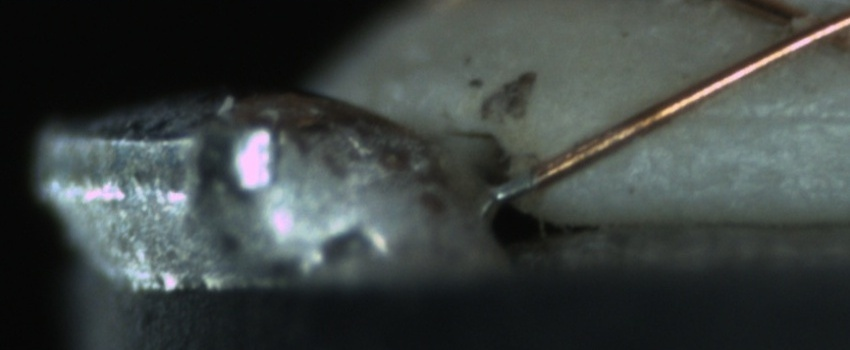CL: (764, 0, 849, 60)
DL: (677, 85, 850, 149)
TS: (493, 170, 541, 201)
